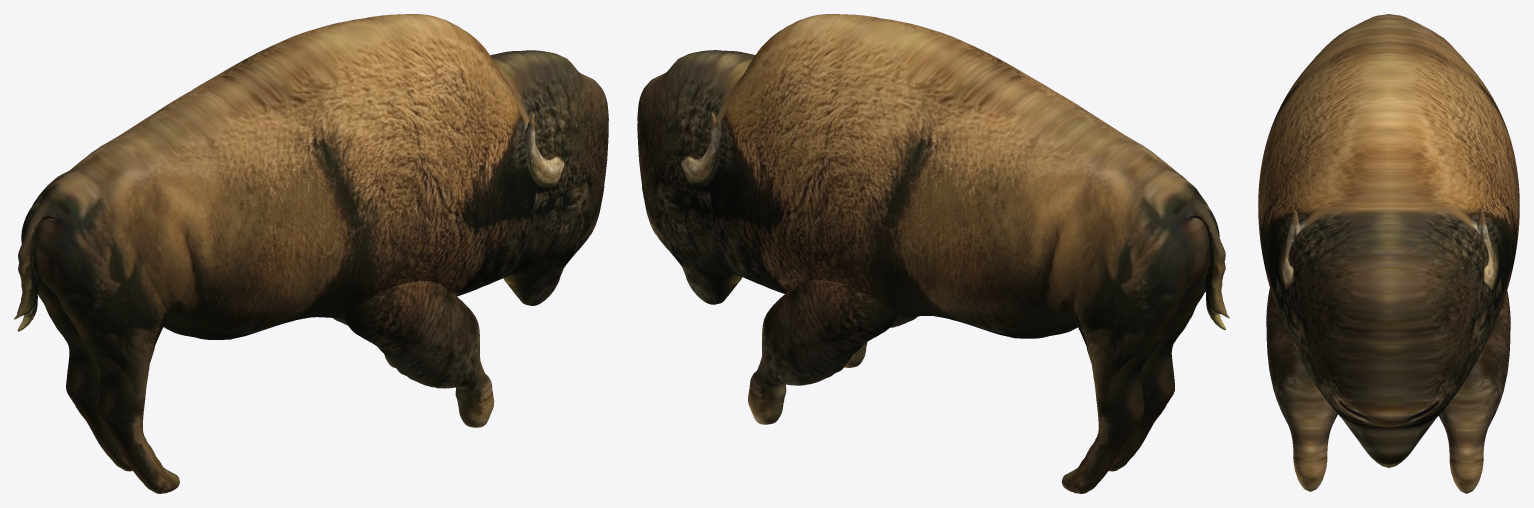
Rendered from plains-bison.glb.
3 renders of one model, left to right at view 1: azimuth 30°, elevation 25°; view 2: azimuth 150°, elevation 25°; view 3: azimuth 270°, elevation 25°, orthographic.
Visible parts, largest first — view 1: mm_frame (54); view 2: mm_frame (54); view 3: mm_frame (54).
Part boxes in pixels (bbox=[...]): mm_frame (54): bbox=[14, 14, 608, 493]; mm_frame (54): bbox=[637, 14, 1229, 493]; mm_frame (54): bbox=[1258, 14, 1519, 493].
Bounding box in the file's own units: 9.57 × 6.24 × 3.75.
1 material, 1 textured.
